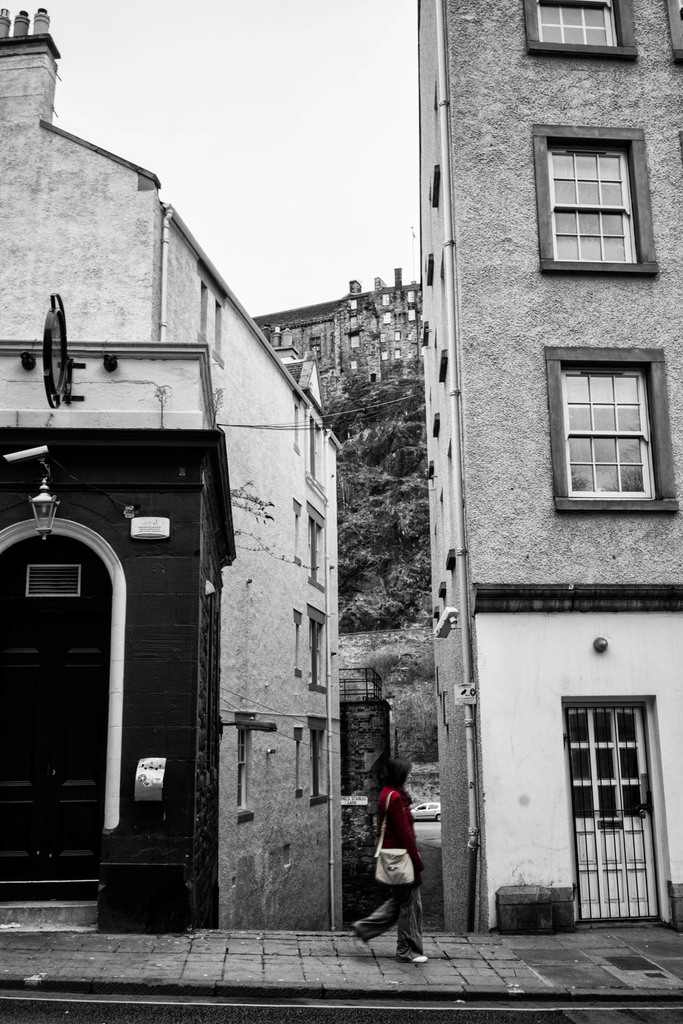door: (2, 556, 104, 882), (567, 704, 652, 922)
